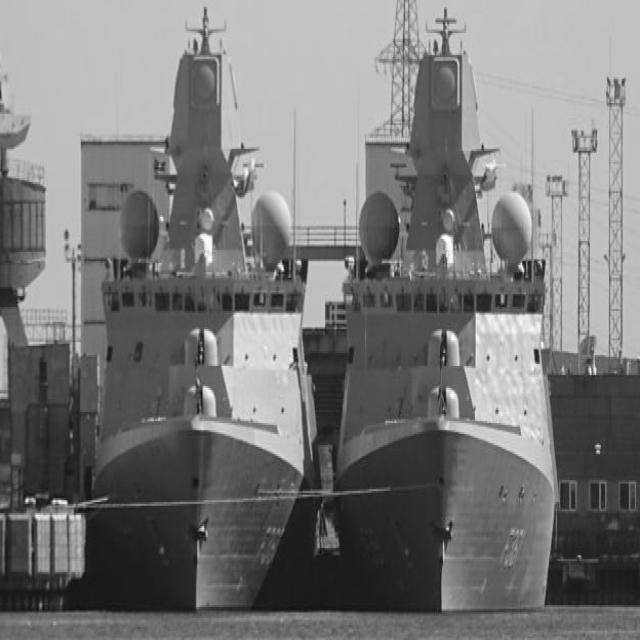Fragata: (75, 1, 322, 621), (330, 1, 562, 626)
